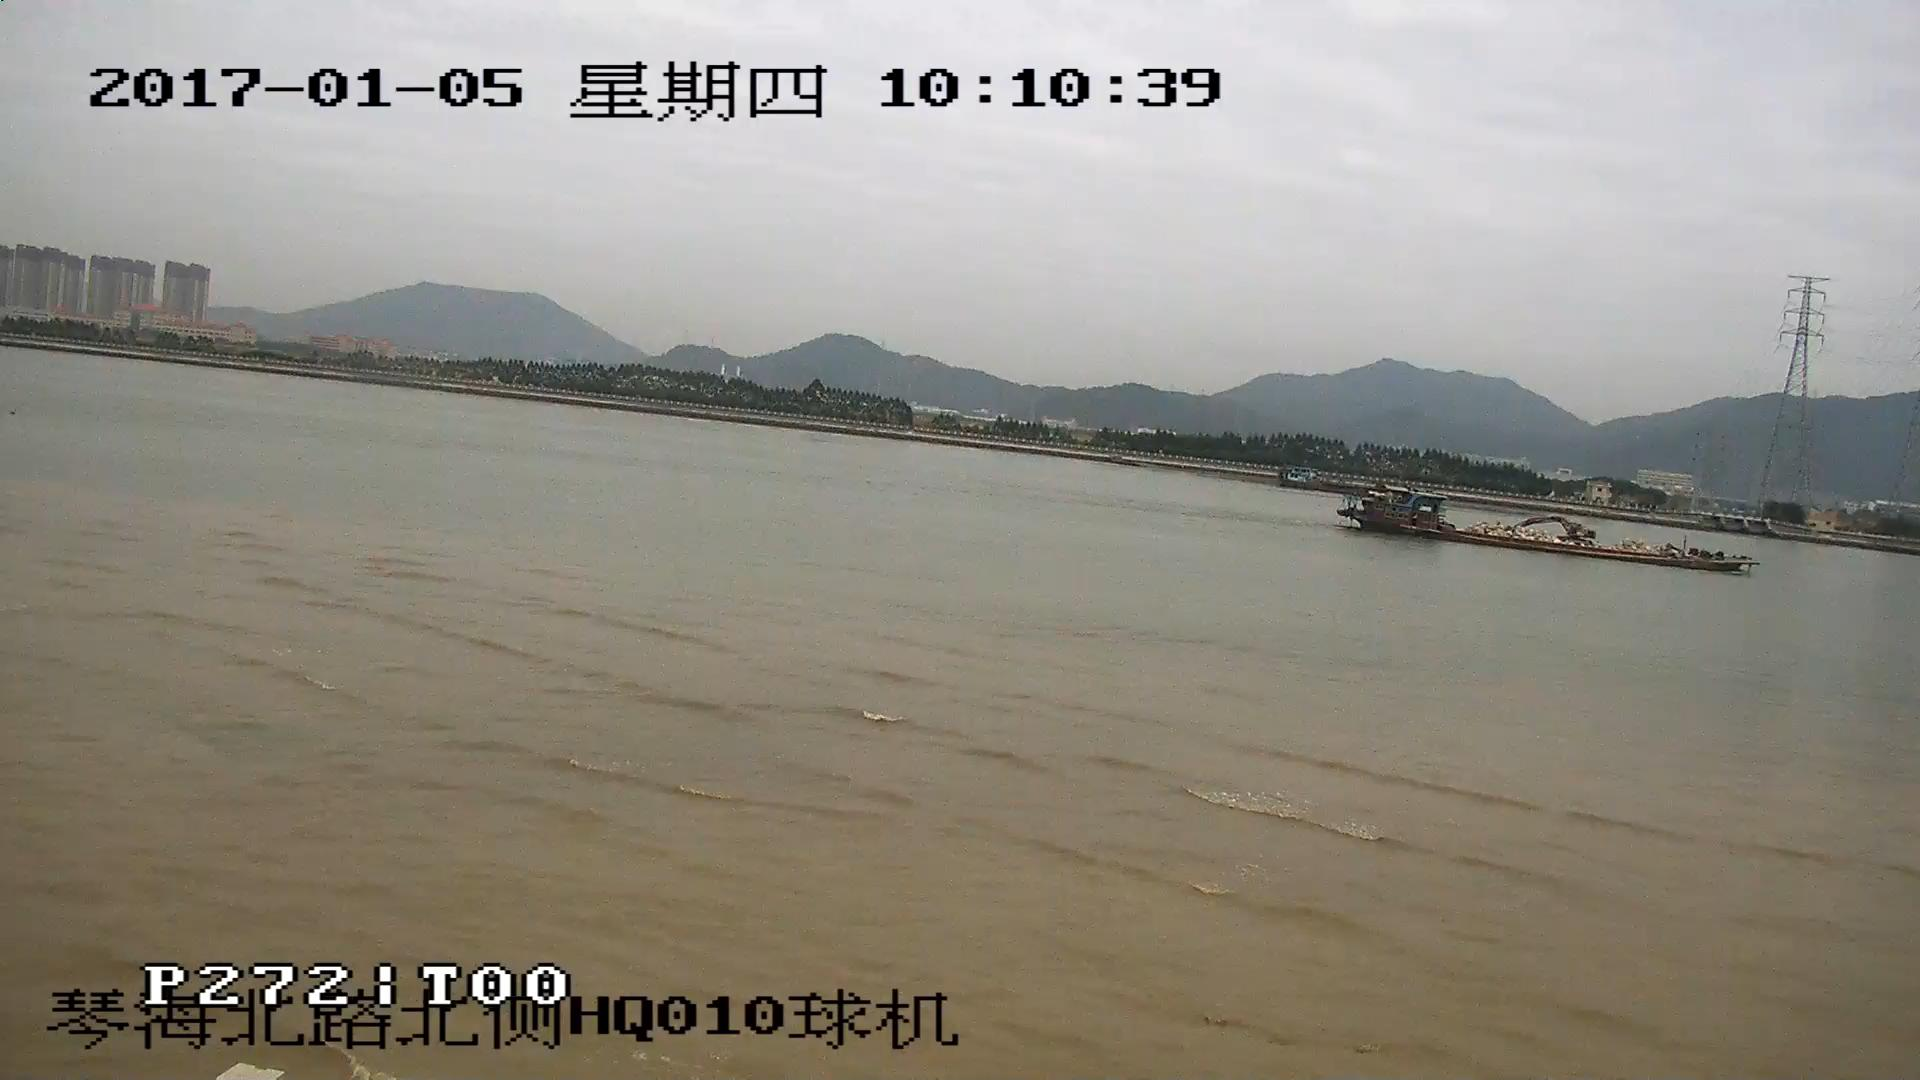bulk cargo carrier: (1348, 480, 1750, 577)
